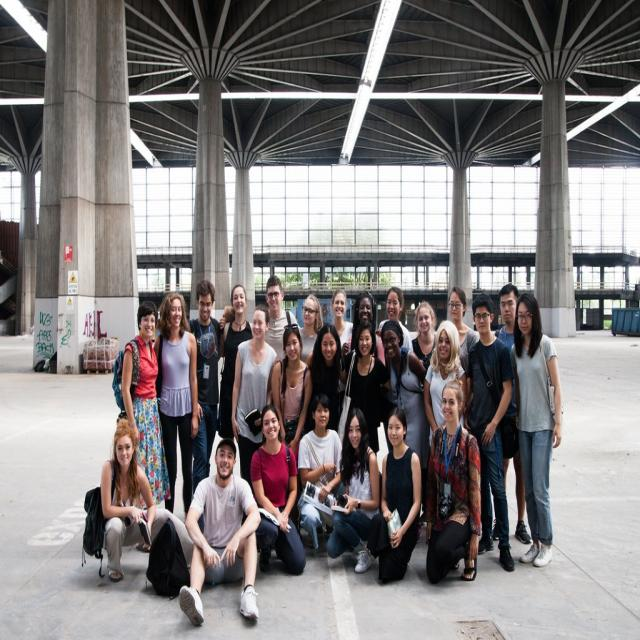body: (80, 416, 195, 585), (178, 436, 263, 628), (508, 290, 565, 569), (461, 291, 517, 574), (120, 300, 172, 554), (422, 376, 482, 586), (490, 282, 533, 547), (152, 290, 200, 523), (363, 404, 422, 586), (248, 401, 308, 578), (232, 304, 278, 526), (188, 278, 225, 534), (325, 406, 381, 574), (296, 391, 348, 552), (218, 274, 304, 367), (342, 318, 394, 470), (273, 323, 345, 432), (380, 319, 430, 472), (216, 283, 256, 447), (423, 319, 468, 448), (270, 322, 312, 450), (330, 287, 356, 418), (345, 288, 387, 369), (374, 284, 415, 363), (447, 285, 481, 373), (409, 300, 439, 388), (296, 294, 324, 364)
